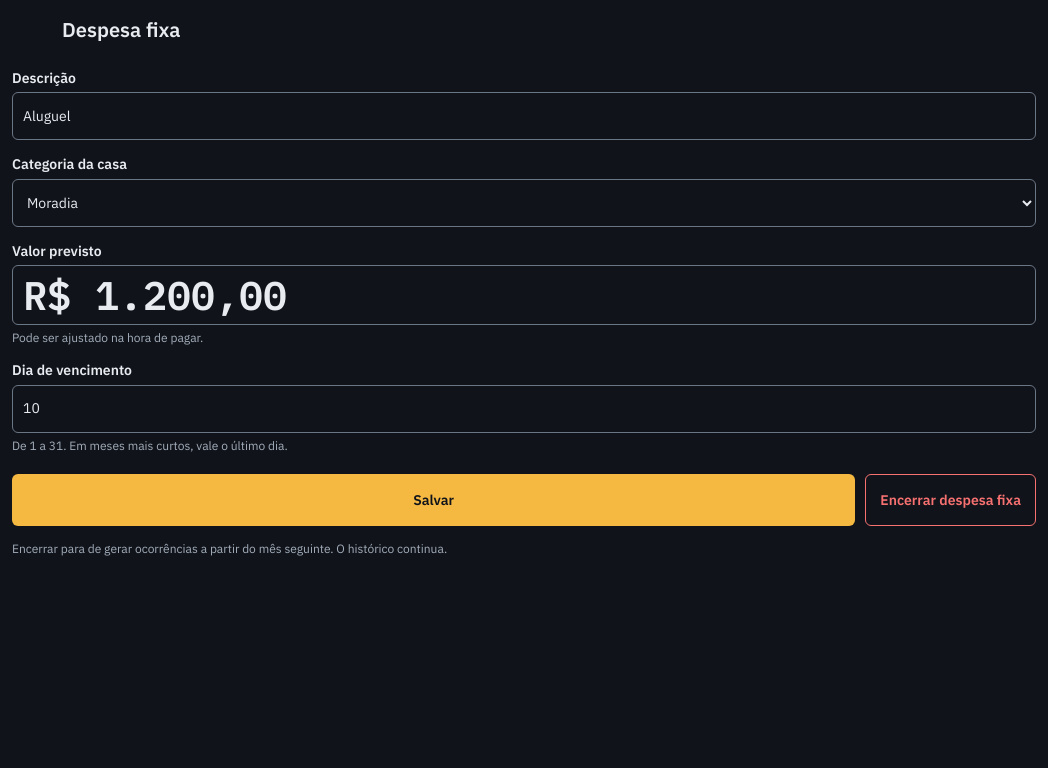
DespesaFixa: validação › descrição vazia mostra o erro, marca o campo e leva o foco a ele
Clear the field labelled "Descrição": (524, 116) [12,92,1036,140]
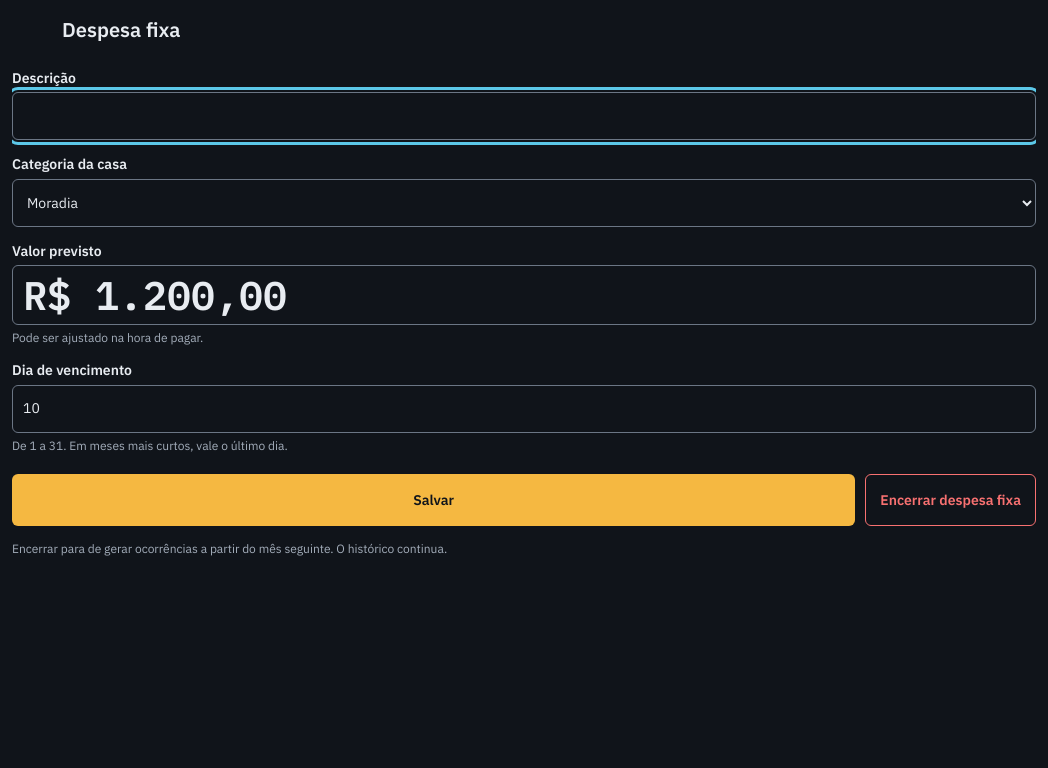
Click the button "Salvar": (434, 500) [12,474,855,526]
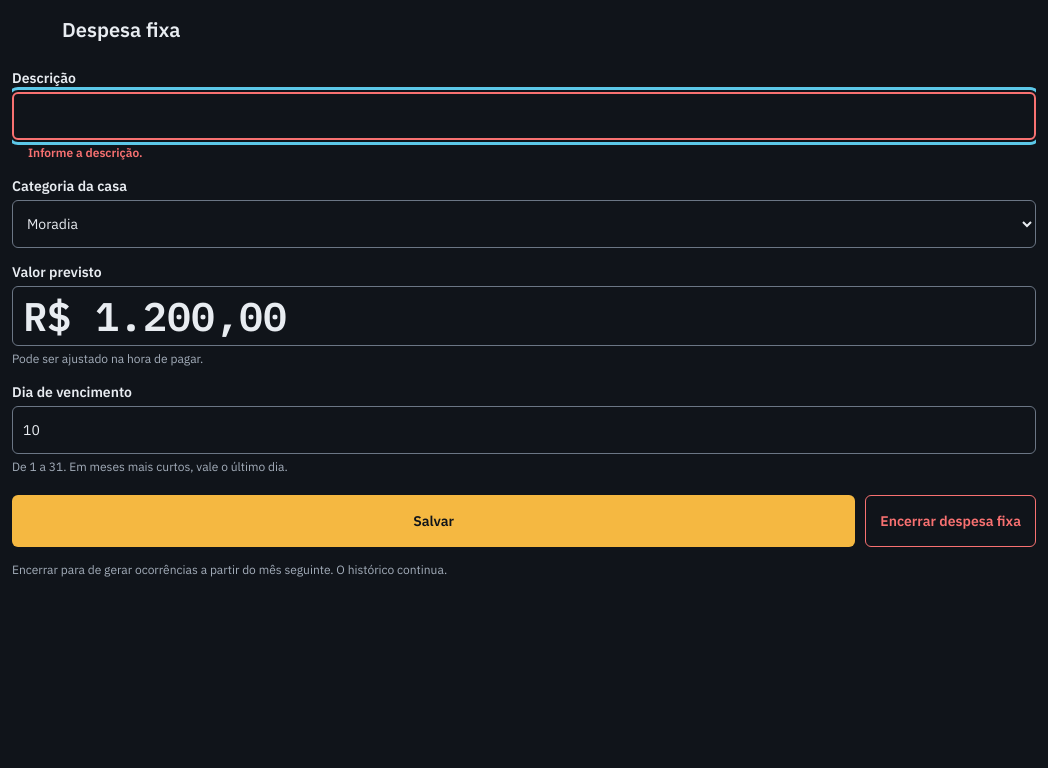
Expected: the text "Informe a descrição." is shown, [12,145,143,160]
